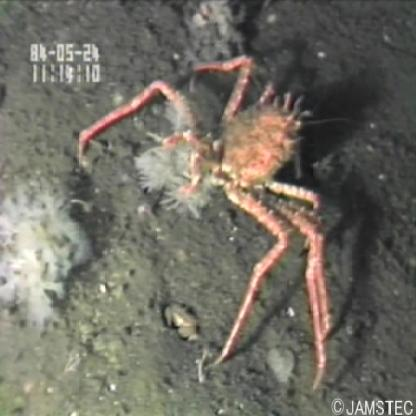Bio: (73, 51, 339, 397)
